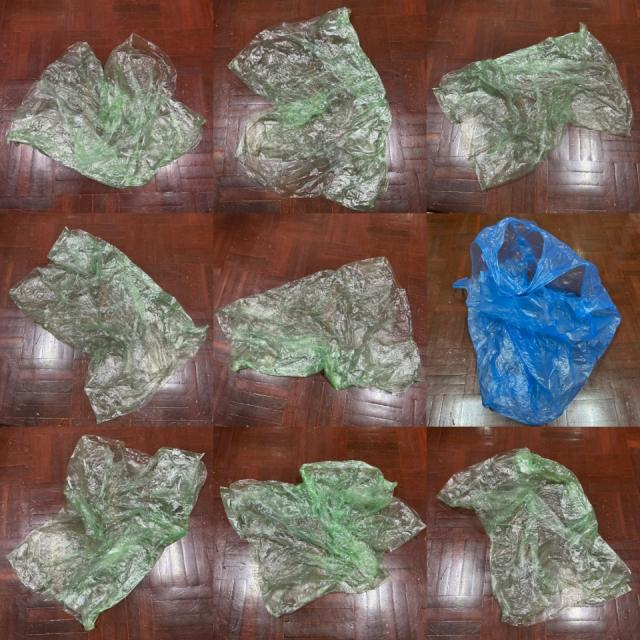Single-layer Plastic: (8, 435, 206, 630), (10, 228, 208, 422), (454, 218, 621, 425), (438, 448, 630, 626), (434, 24, 632, 189), (229, 8, 391, 209), (221, 460, 425, 617), (6, 34, 205, 188), (215, 258, 422, 392)
